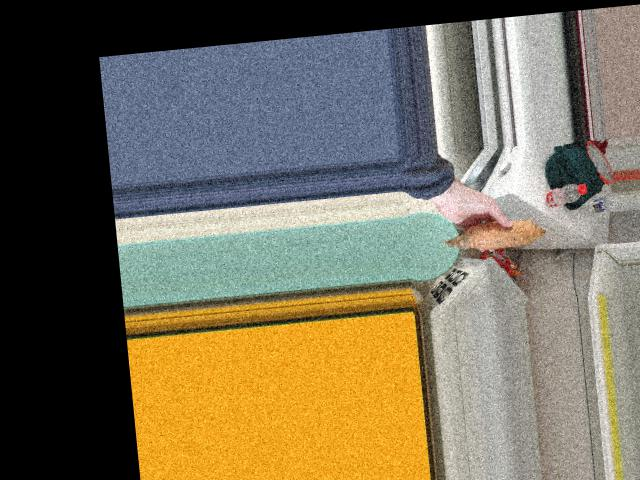sweet_potato: (455, 219, 543, 250)
